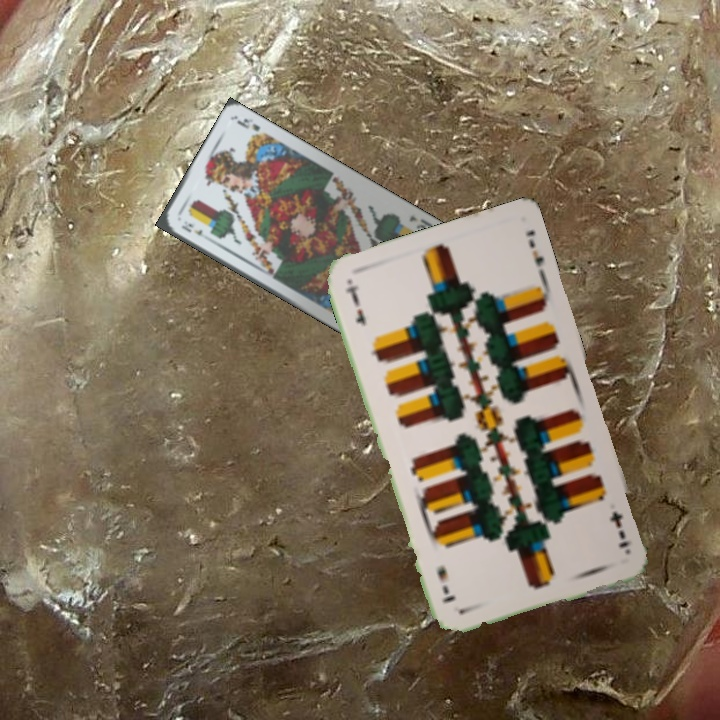E7: (341, 278, 369, 329), (605, 507, 632, 551)
EK: (177, 219, 211, 243), (405, 212, 435, 232)
